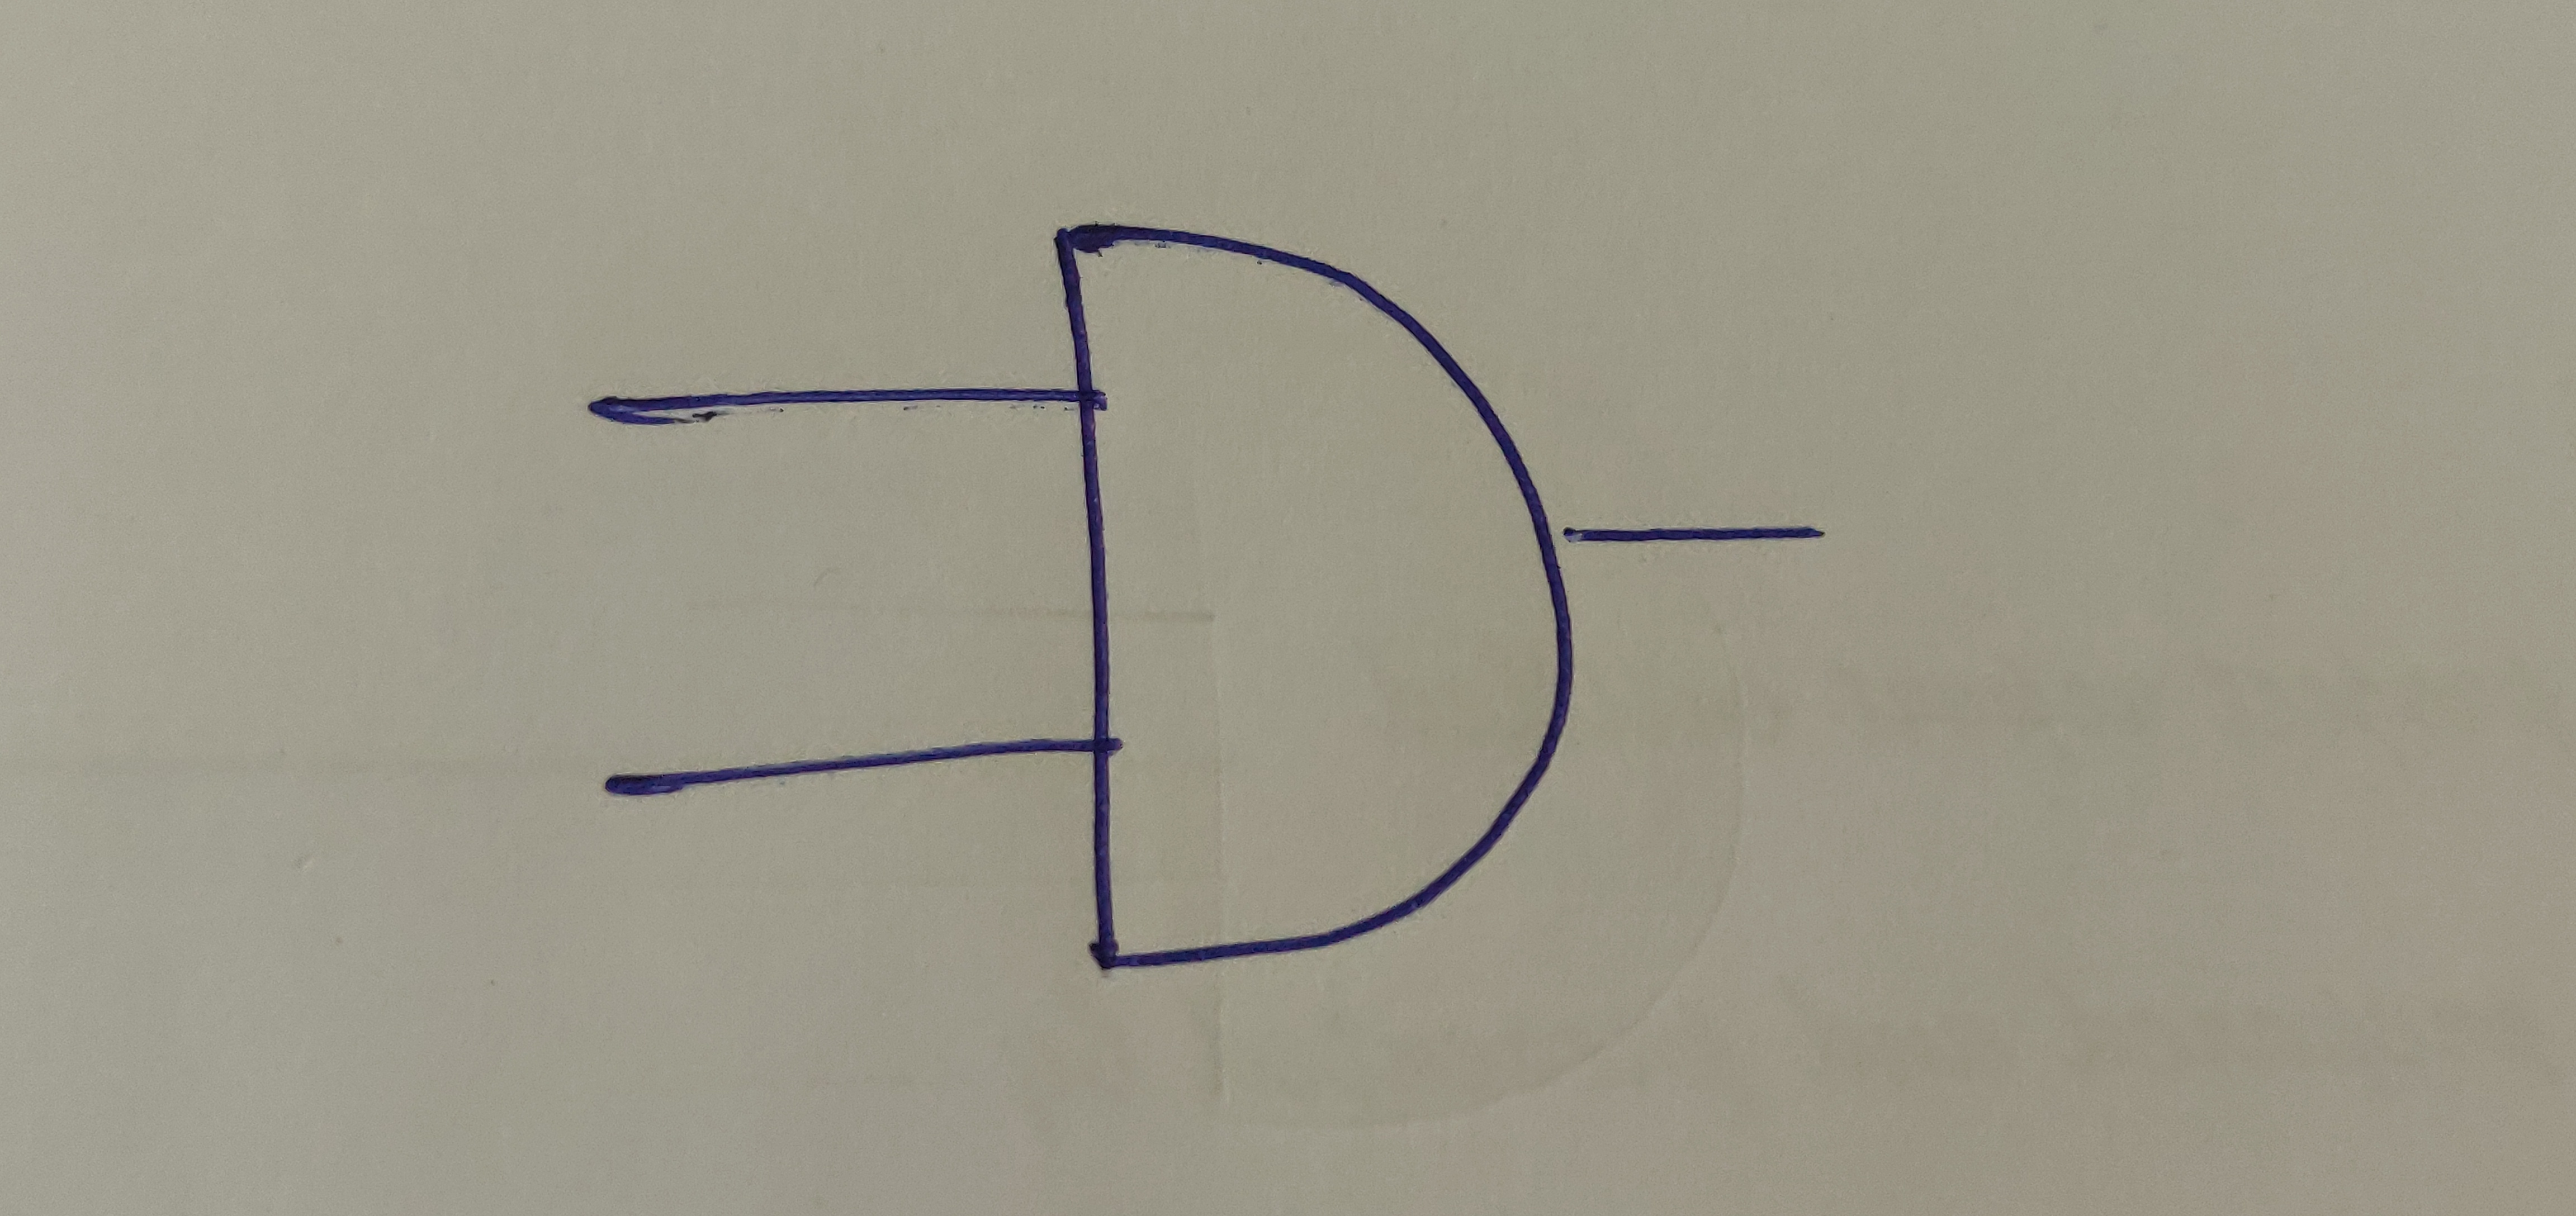and: (1046, 219, 1582, 973)
